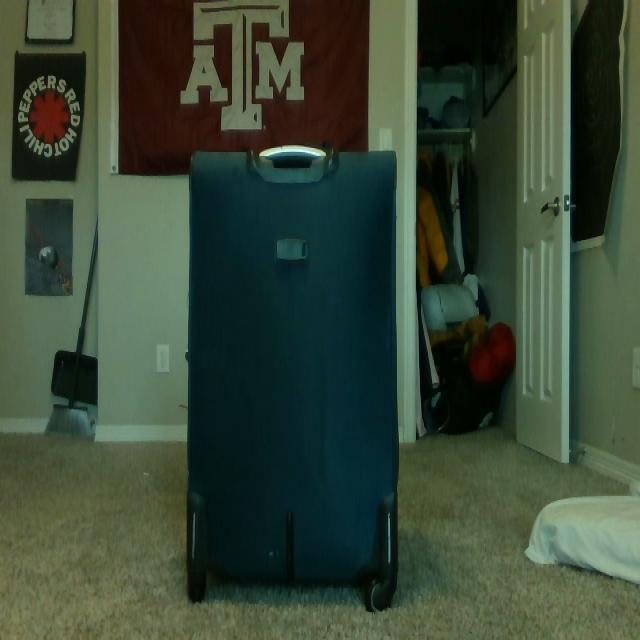suitcase: (184, 142, 402, 613)
